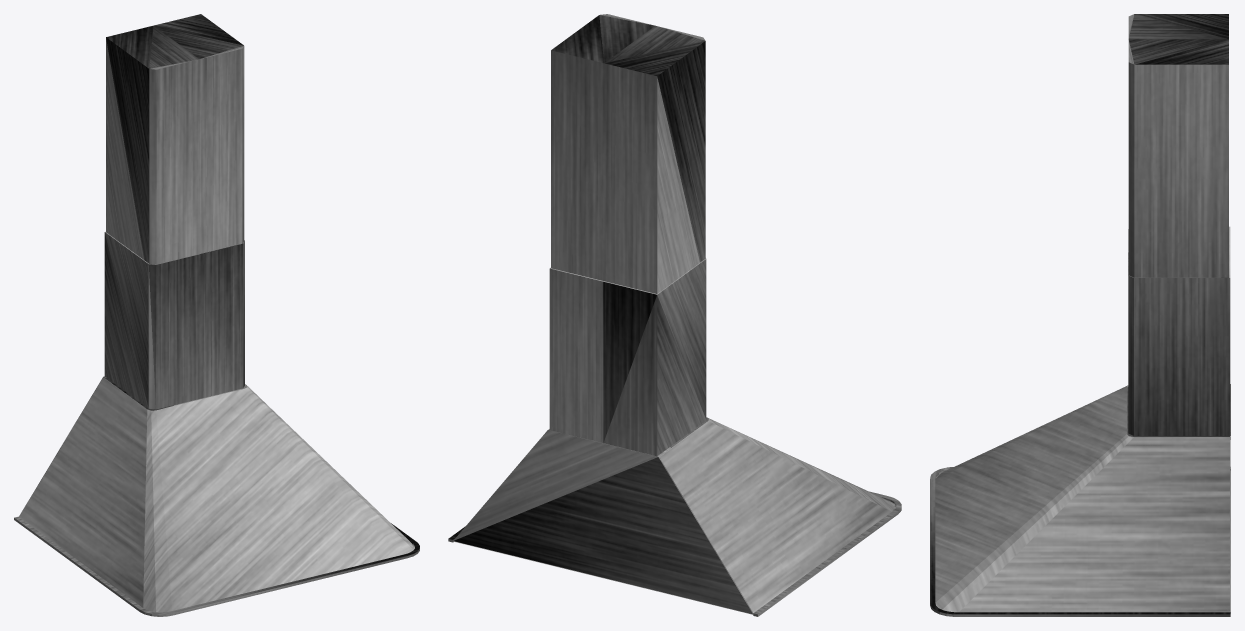
Rendered from IKEA.ART.90304629.obj.
The picture shows the model from 3 angles, left to right: view 1: azimuth 30°, elevation 25°; view 2: azimuth 150°, elevation 25°; view 3: azimuth 270°, elevation 25°; orthographic projection. The views are drawn at different scales.
Visible parts, largest first — view 1: model_model.027; view 2: model_model.027; view 3: model_model.027.
Boxes of the visible parts, x1,y1,x2,y2 form: model_model.027: (14,14,419,616); model_model.027: (448,14,901,616); model_model.027: (930,14,1230,616).
Bounding box in the file's own units: 0.5999 × 0.9535 × 0.5159.
